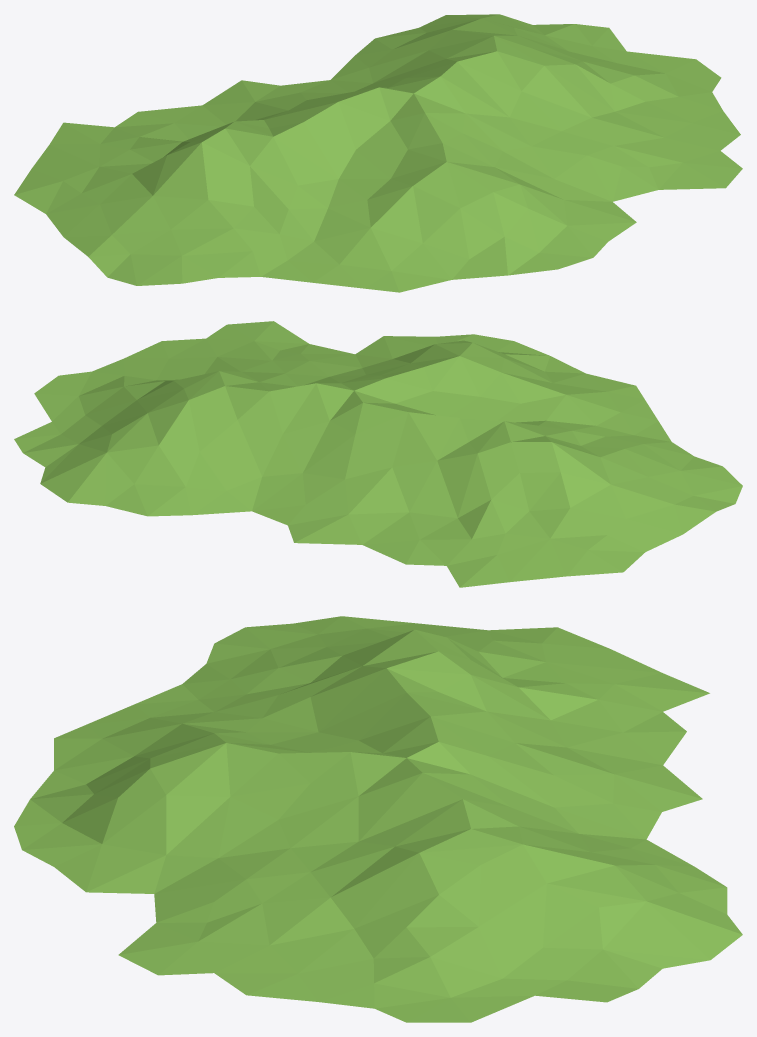
File: MT_Mountain_M_a_15_LOD.fbx
3 renders of one model, top to bottom at view 1: azimuth 30°, elevation 25°; view 2: azimuth 150°, elevation 25°; view 3: azimuth 270°, elevation 25°, orthographic. The views are drawn at different scales.
Visible parts, largest first — view 1: MT_Mountain_M_a_15_LOD0; view 2: MT_Mountain_M_a_15_LOD0; view 3: MT_Mountain_M_a_15_LOD0.
Part boxes in pixels (x1,y1,x2,y2): MT_Mountain_M_a_15_LOD0: [14, 14, 742, 292]; MT_Mountain_M_a_15_LOD0: [14, 321, 742, 587]; MT_Mountain_M_a_15_LOD0: [14, 616, 742, 1022].
Size of what is drawn, in the model's own units: 4687 by 473 by 3553.
